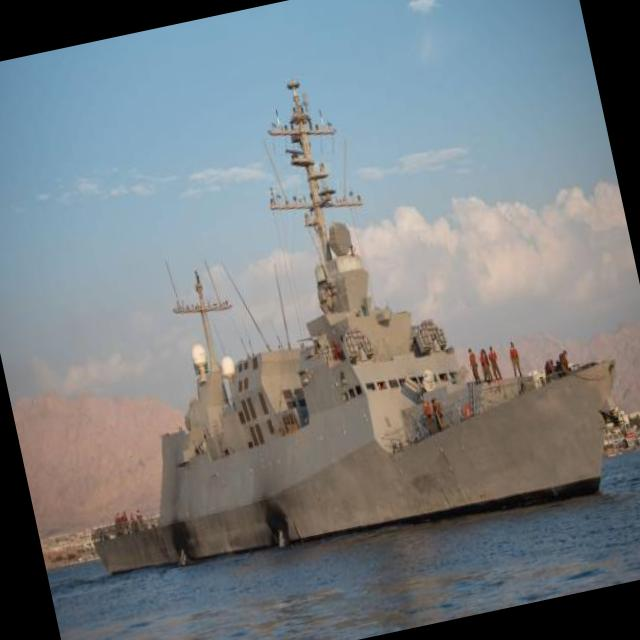Military: (90, 80, 618, 573)
